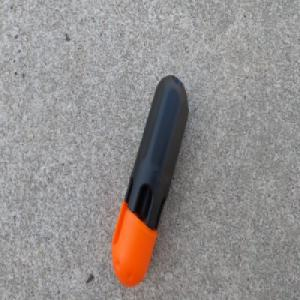PlasticPart: (110, 72, 190, 288)
